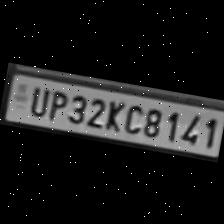1: (198, 113, 222, 150), (159, 106, 181, 142)
2: (82, 93, 106, 129)
3: (62, 88, 86, 124)
4: (175, 108, 204, 145)
8: (138, 103, 164, 139)
C: (118, 100, 144, 136)
K: (100, 96, 123, 132)
P: (44, 86, 68, 120)
U: (23, 82, 49, 117)
